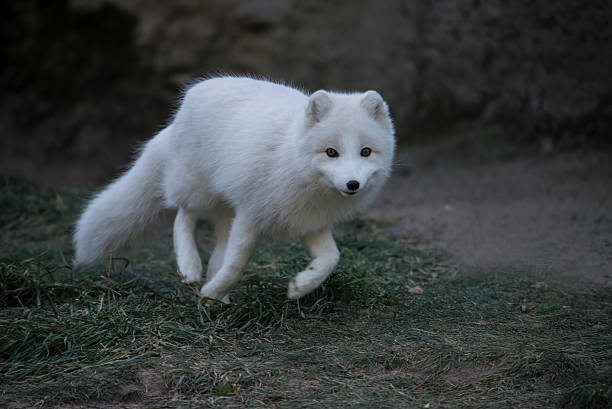arcticfox: (306, 112, 387, 209)
